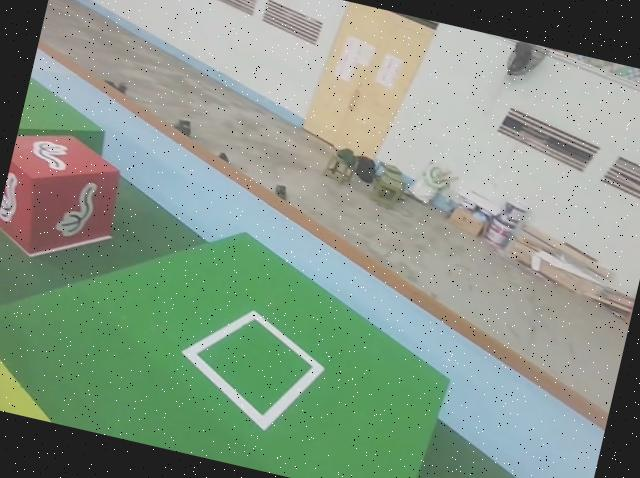R2 Real: (0, 117, 133, 275)
